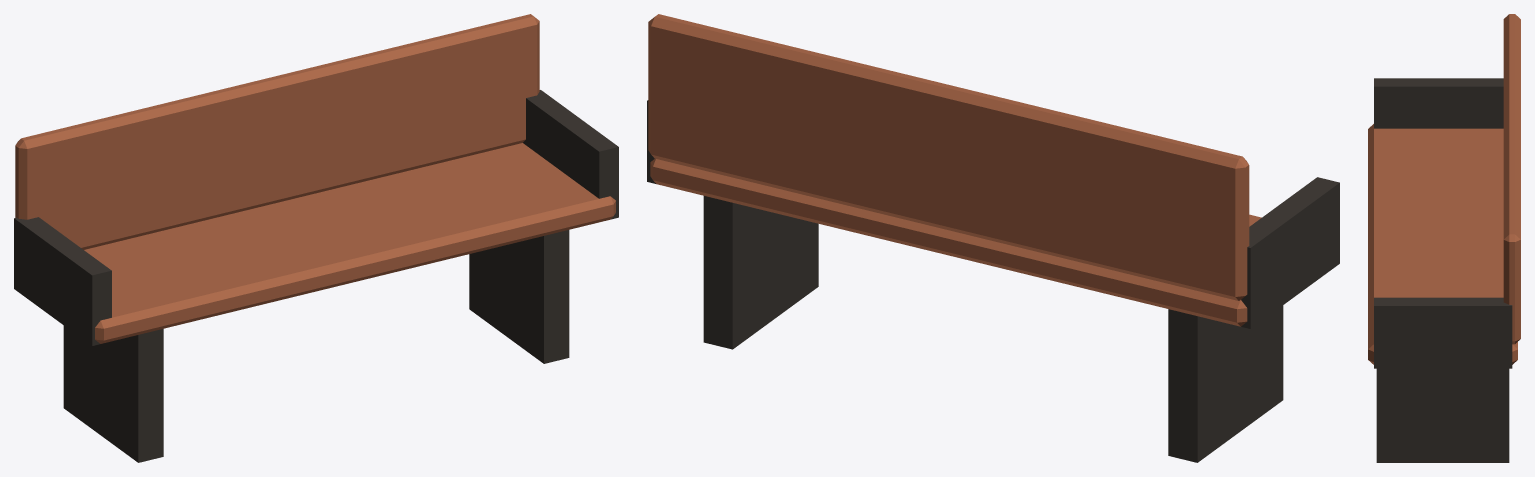
Rendered from bench.glb.
3 views of the same model, side by side, from view 1: azimuth 30°, elevation 25°; view 2: azimuth 150°, elevation 25°; view 3: azimuth 270°, elevation 25° (orthographic). The views are drawn at different scales.
Parts seen in each view (by area): view 1: bench_backrest, bench_seat, bench_legL, bench_legR, bench_armL, bench_armR; view 2: bench_backrest, bench_seat, bench_legL, bench_legR, bench_armL; view 3: bench_seat, bench_legR, bench_armR, bench_armL, bench_backrest.
Boxes of the visible parts, x1=… form: bench_backrest: x1=15, y1=14, x2=539, y2=249; bench_seat: x1=84, y1=143, x2=615, y2=343; bench_legL: x1=63, y1=325, x2=163, y2=462; bench_legR: x1=469, y1=230, x2=569, y2=363; bench_armL: x1=14, y1=217, x2=111, y2=345; bench_armR: x1=523, y1=90, x2=618, y2=219; bench_backrest: x1=648, y1=14, x2=1249, y2=300; bench_seat: x1=650, y1=158, x2=1261, y2=326; bench_legL: x1=1168, y1=305, x2=1283, y2=462; bench_legR: x1=703, y1=196, x2=818, y2=349; bench_armL: x1=1241, y1=177, x2=1339, y2=328; bench_seat: x1=1368, y1=124, x2=1517, y2=364; bench_legR: x1=1376, y1=368, x2=1509, y2=462; bench_armR: x1=1374, y1=297, x2=1512, y2=368; bench_armL: x1=1374, y1=78, x2=1503, y2=128; bench_backrest: x1=1503, y1=14, x2=1520, y2=344.
Bounding box in the file's own units: 1.87 × 0.94 × 0.53.
